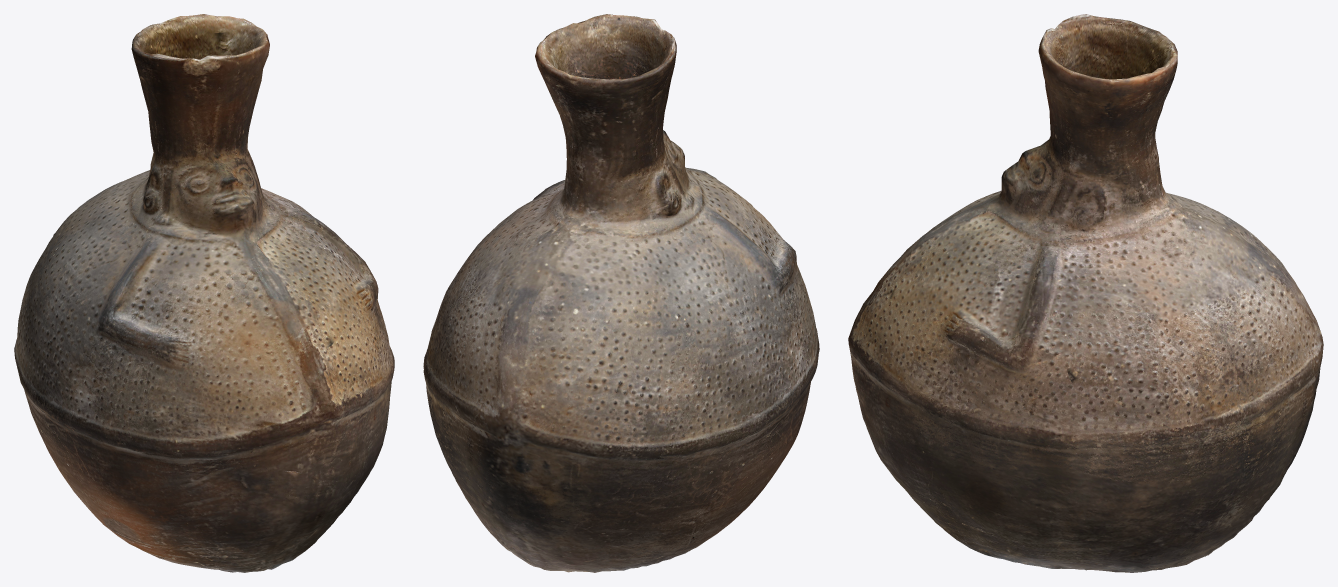
The model's file is bien02.FBX.
3 views of the same model, side by side, from view 1: azimuth 30°, elevation 25°; view 2: azimuth 150°, elevation 25°; view 3: azimuth 270°, elevation 25° (orthographic). The views are drawn at different scales.
Parts seen in each view (by area): view 1: default; view 2: default; view 3: default.
Boxes of the visible parts, x1,y1,x2,y2 form: default: [14, 14, 394, 572]; default: [423, 14, 819, 572]; default: [848, 14, 1323, 572].
Bounding box in the file's own units: 45.38 × 68.1 × 57.71.
